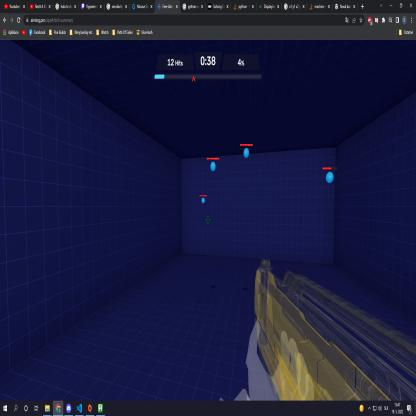sphere: (326, 171, 334, 184), (209, 160, 216, 174), (243, 148, 250, 158), (201, 197, 205, 205)
